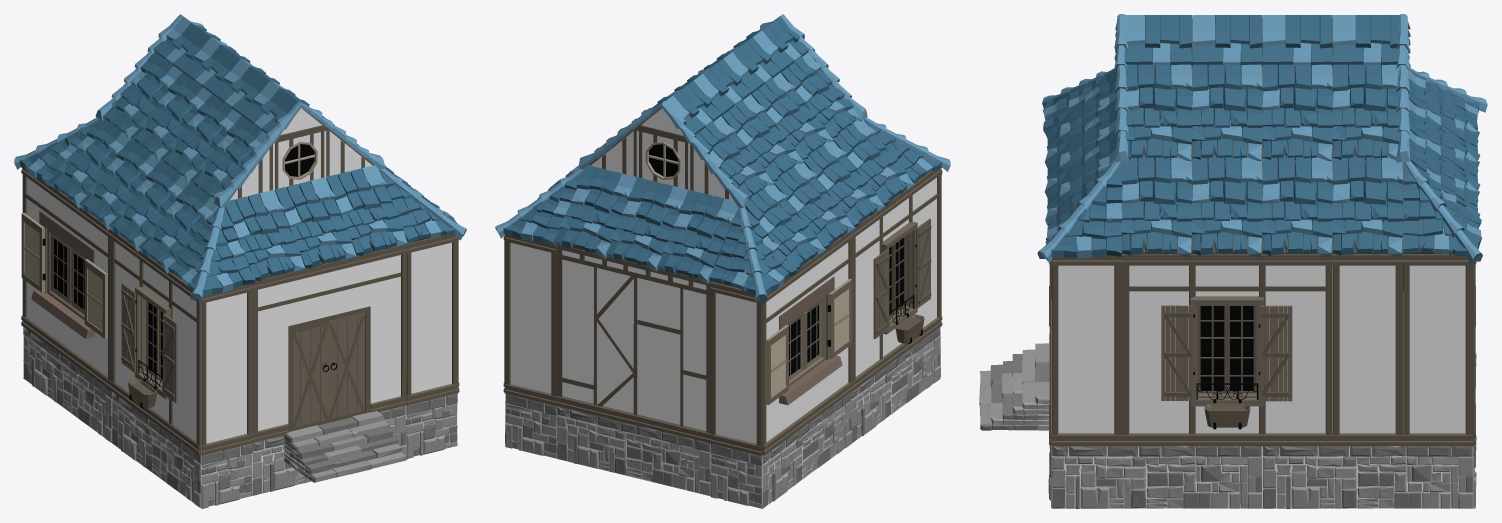
The model's file is house_07_full.glb.
3 views of the same model, side by side, from view 1: azimuth 30°, elevation 25°; view 2: azimuth 150°, elevation 25°; view 3: azimuth 270°, elevation 25° (orthographic). The views are drawn at different scales.
Parts seen in each view (by area): view 1: DOOR_03_2, WINDOW_05_4, WINDOW_06_2, WALL_03_4, WALL_03_3, STAIRS_04_3, FOUNDATION_02_22, FOUNDATION_02_21, ROOF_base_24, ROOF_base_12, ROOF_base_21, ROOF_corner_out_5 (+24 smaller); view 2: WALL_05_2, WINDOW_06_2, WINDOW_05_4, WALL_03_9, WALL_03_8, FOUNDATION_02_23, FOUNDATION_02_22, FOUNDATION_02_21, ROOF_base_22, ROOF_base_11, ROOF_base_23, ROOF_corner_out_4 (+23 smaller); view 3: WINDOW_05_2, WALL_03_7, WALL_03_5, WALL_03_6, FOUNDATION_02_25, FOUNDATION_02_24, ROOF_base_8, ROOF_base_6, ROOF_base_10, ROOF_base_3, ROOF_base_7, ROOF_base_5 (+19 smaller).
Boxes of the visible parts, <box> form: DOOR_03_2: <box>253,246,407,442</box>; WINDOW_05_4: <box>110,229,200,455</box>; WINDOW_06_2: <box>21,167,111,389</box>; WALL_03_4: <box>201,283,253,455</box>; WALL_03_3: <box>406,234,458,405</box>; STAIRS_04_3: <box>283,411,407,482</box>; FOUNDATION_02_22: <box>23,327,112,442</box>; FOUNDATION_02_21: <box>112,392,201,507</box>; ROOF_base_24: <box>275,177,356,268</box>; ROOF_base_12: <box>326,165,407,256</box>; ROOF_base_21: <box>225,189,305,281</box>; ROOF_corner_out_5: <box>168,206,255,301</box>; WALL_05_2: <box>556,244,710,443</box>; WINDOW_06_2: <box>762,232,853,455</box>; WINDOW_05_4: <box>852,167,942,390</box>; WALL_03_9: <box>710,281,762,455</box>; WALL_03_8: <box>504,234,556,405</box>; FOUNDATION_02_23: <box>557,406,710,496</box>; FOUNDATION_02_22: <box>762,392,852,508</box>; FOUNDATION_02_21: <box>851,327,940,442</box>; ROOF_base_22: <box>658,190,738,283</box>; ROOF_base_11: <box>555,165,636,259</box>; ROOF_base_23: <box>606,177,687,271</box>; ROOF_corner_out_4: <box>709,206,797,302</box>; WINDOW_05_2: <box>1122,254,1332,446</box>; WALL_03_7: <box>1403,254,1473,446</box>; WALL_03_5: <box>1051,254,1121,446</box>; WALL_03_6: <box>1333,254,1402,446</box>; FOUNDATION_02_25: <box>1051,446,1262,508</box>; FOUNDATION_02_24: <box>1262,446,1473,508</box>; ROOF_base_8: <box>1191,155,1262,257</box>; ROOF_base_6: <box>1262,155,1332,257</box>; ROOF_base_10: <box>1121,155,1192,257</box>; ROOF_base_3: <box>1332,155,1403,257</box>; ROOF_base_7: <box>1191,64,1262,161</box>; ROOF_base_5: <box>1262,64,1332,161</box>.
Size of the model in its own units: 5.82 by 6.6 by 7.24.
1 material, 1 textured.
